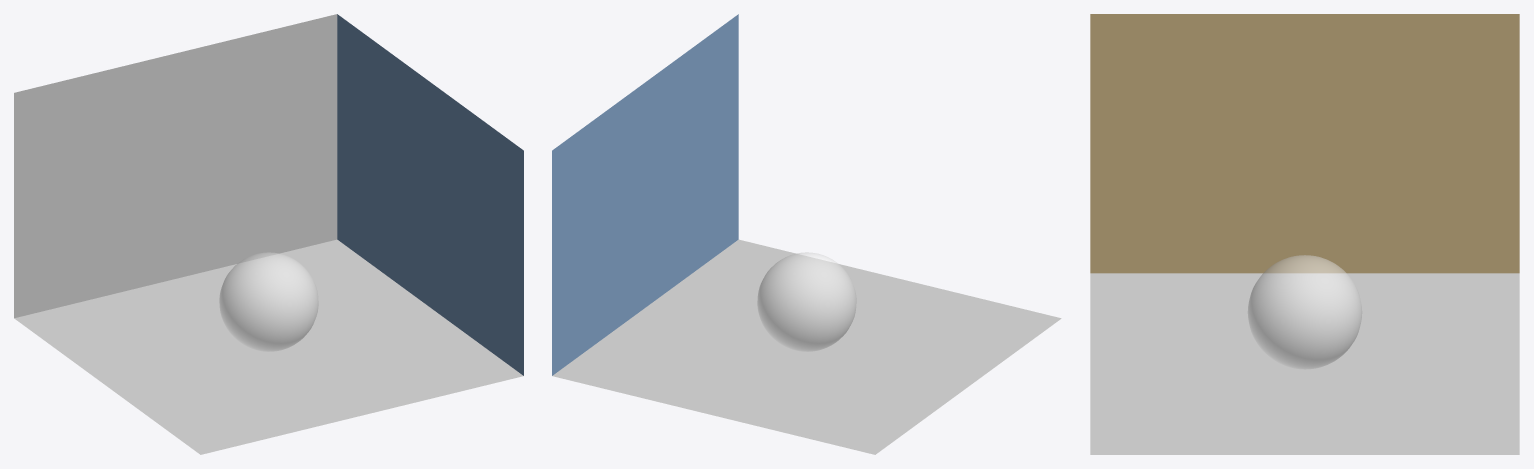
File: small_light.glb
The picture shows the model from 3 angles, left to right: view 1: azimuth 30°, elevation 25°; view 2: azimuth 150°, elevation 25°; view 3: azimuth 270°, elevation 25°; orthographic projection. The views are drawn at different scales.
Parts seen in each view (by area): view 1: BackWall, Floor, RightWall, GlassSphere; view 2: Floor, RightWall, GlassSphere; view 3: LeftWall, Floor, GlassSphere.
Part boxes in pixels (left/top/right/bottom): BackWall: left=14, top=14, right=337, bottom=318; Floor: left=14, top=239, right=523, bottom=454; RightWall: left=337, top=14, right=523, bottom=375; GlassSphere: left=219, top=252, right=318, bottom=351; Floor: left=552, top=239, right=1061, bottom=454; RightWall: left=552, top=14, right=738, bottom=375; GlassSphere: left=757, top=252, right=856, bottom=351; LeftWall: left=1090, top=14, right=1519, bottom=273; Floor: left=1090, top=273, right=1519, bottom=454; GlassSphere: left=1247, top=255, right=1362, bottom=369.
Size of the model in its own units: 6 by 4 by 6.
